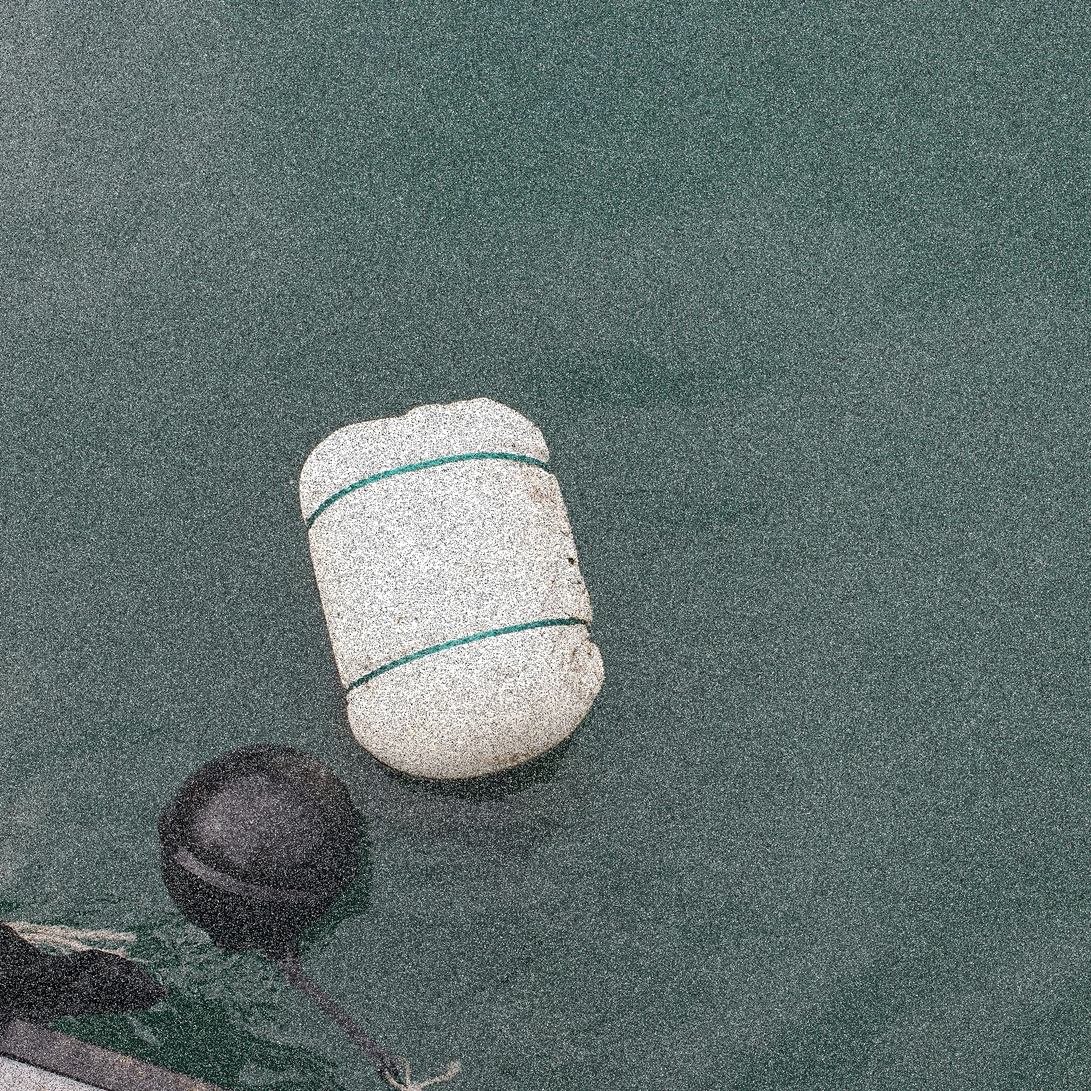sampah_terapung: (300, 396, 607, 779), (158, 744, 361, 960), (1, 921, 149, 966), (386, 1056, 462, 1091)
